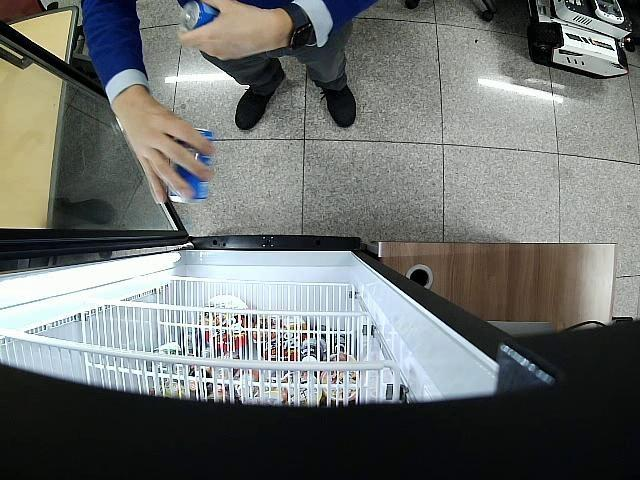15_letsbe: (168, 128, 212, 204), (181, 0, 220, 30)
